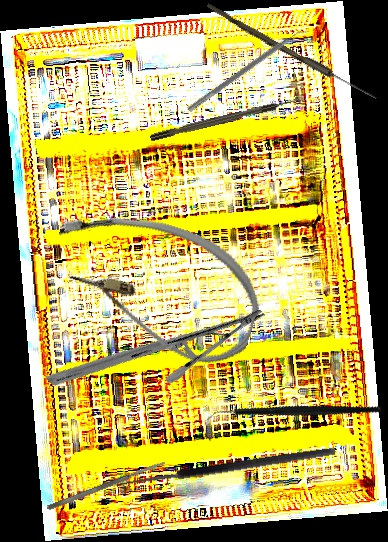Cannula: (34, 193, 275, 376)
Chopper: (203, 354, 383, 475)
Hook Surgical: (112, 444, 338, 502), (149, 96, 301, 142)
Needle Holder: (44, 233, 268, 461)
Spatula Surgical: (186, 24, 309, 118), (45, 459, 168, 512)
Surgical Spoon: (204, 3, 379, 102)
